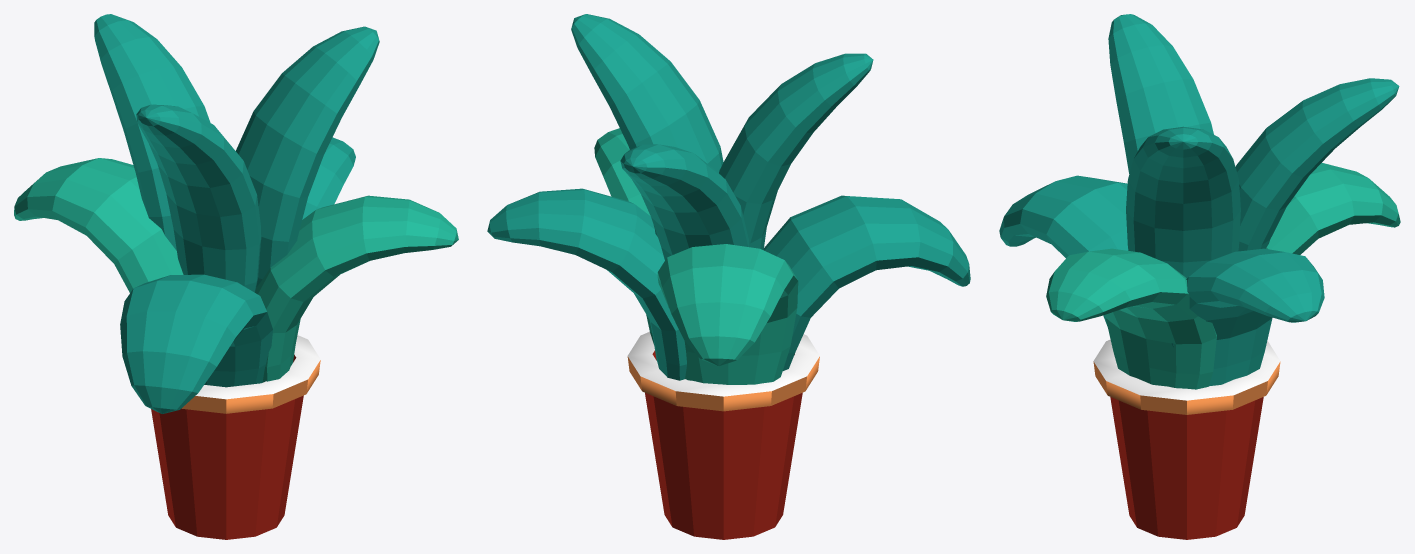
Rendered from potted_plant04.fbx.
The picture shows the model from 3 angles, left to right: view 1: azimuth 30°, elevation 25°; view 2: azimuth 150°, elevation 25°; view 3: azimuth 270°, elevation 25°; orthographic projection. The views are drawn at different scales.
Parts seen in each view (by area): view 1: potted_plant04; view 2: potted_plant04; view 3: potted_plant04.
Boxes of the visible parts, x1,y1,x2,y2 form: potted_plant04: [14, 14, 458, 539]; potted_plant04: [487, 14, 970, 539]; potted_plant04: [999, 14, 1400, 539].
Bounding box in the file's own units: 1.46 × 1.85 × 1.5.
